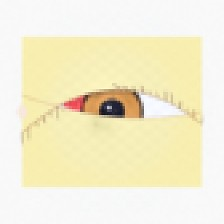hemorrhage_spot: (49, 66, 139, 138)
